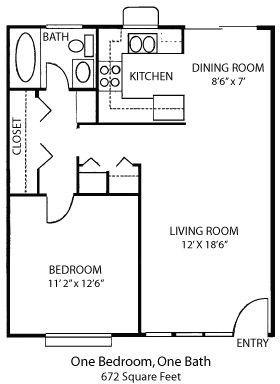wall: (6, 24, 275, 30), (270, 25, 275, 337), (6, 332, 275, 337), (6, 25, 10, 338), (138, 163, 142, 337), (6, 87, 99, 92), (6, 193, 142, 196), (95, 24, 99, 125), (77, 122, 186, 125), (76, 156, 80, 196), (181, 24, 186, 54), (37, 168, 40, 197), (106, 171, 109, 196), (35, 87, 39, 98), (132, 163, 142, 167), (76, 122, 80, 129)
